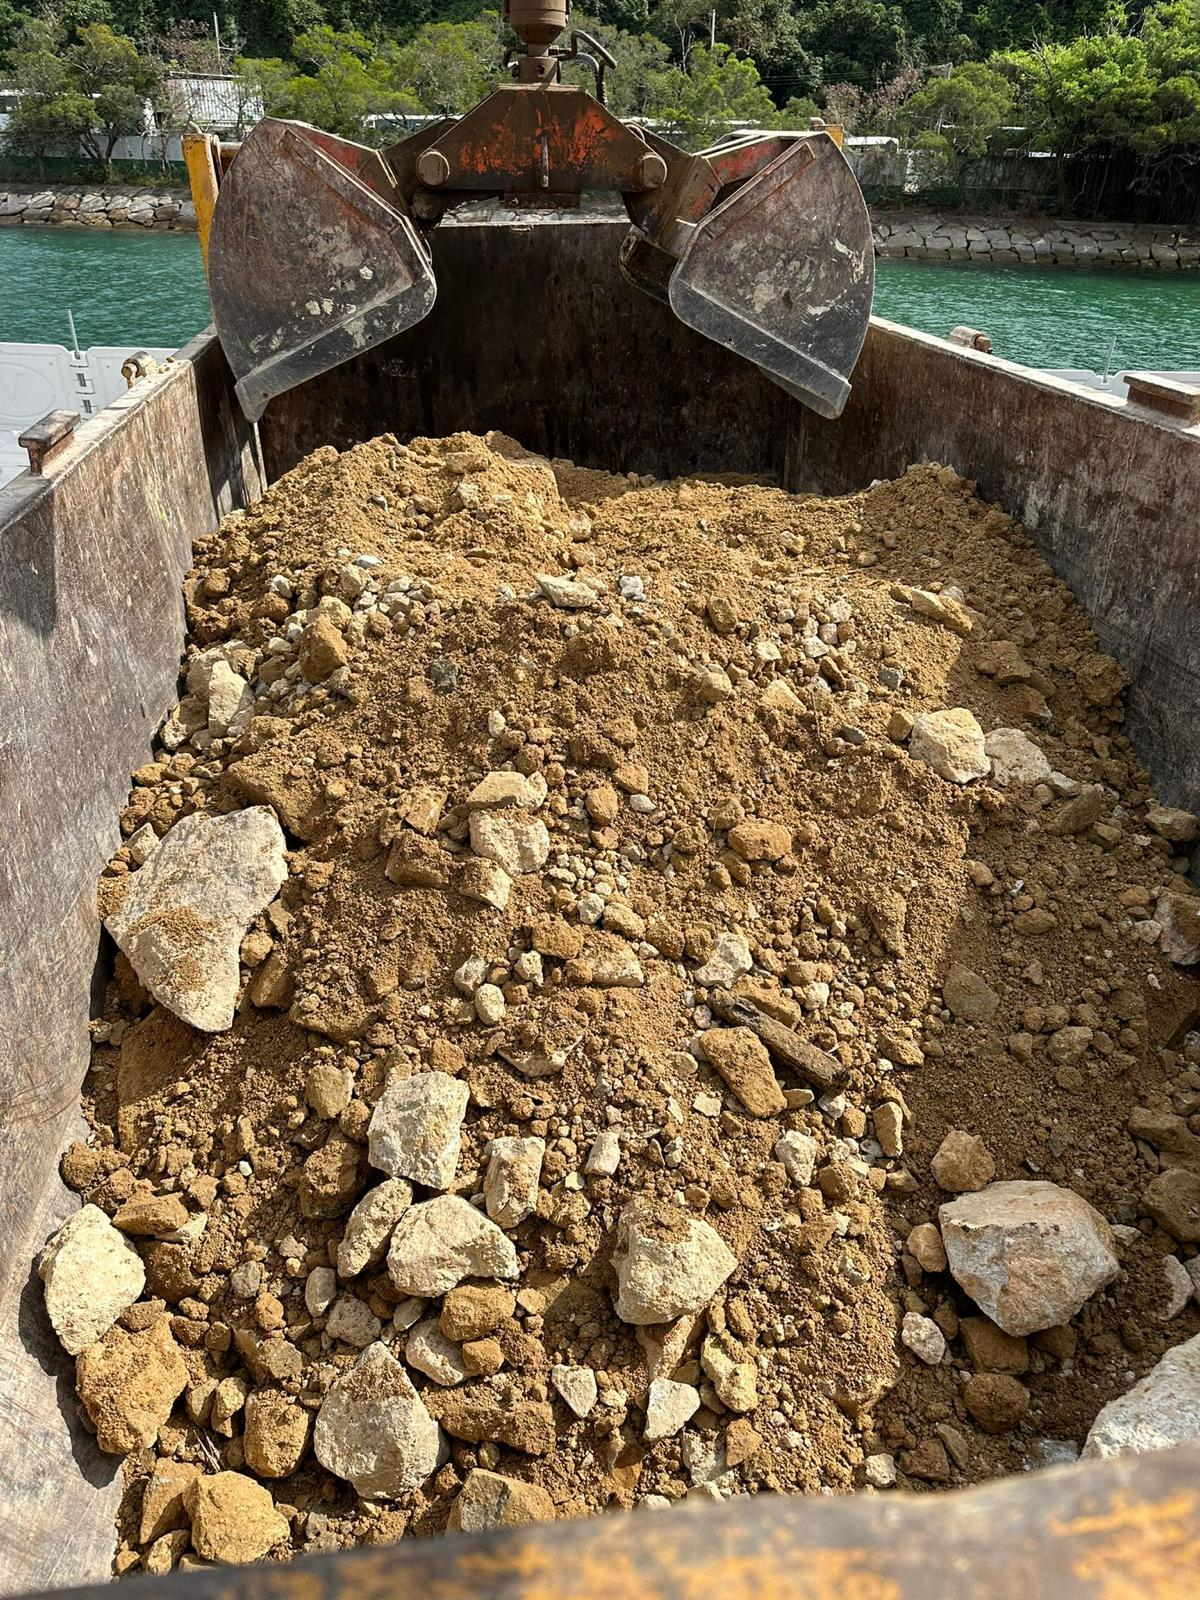dry: (100, 445, 1192, 1480)
